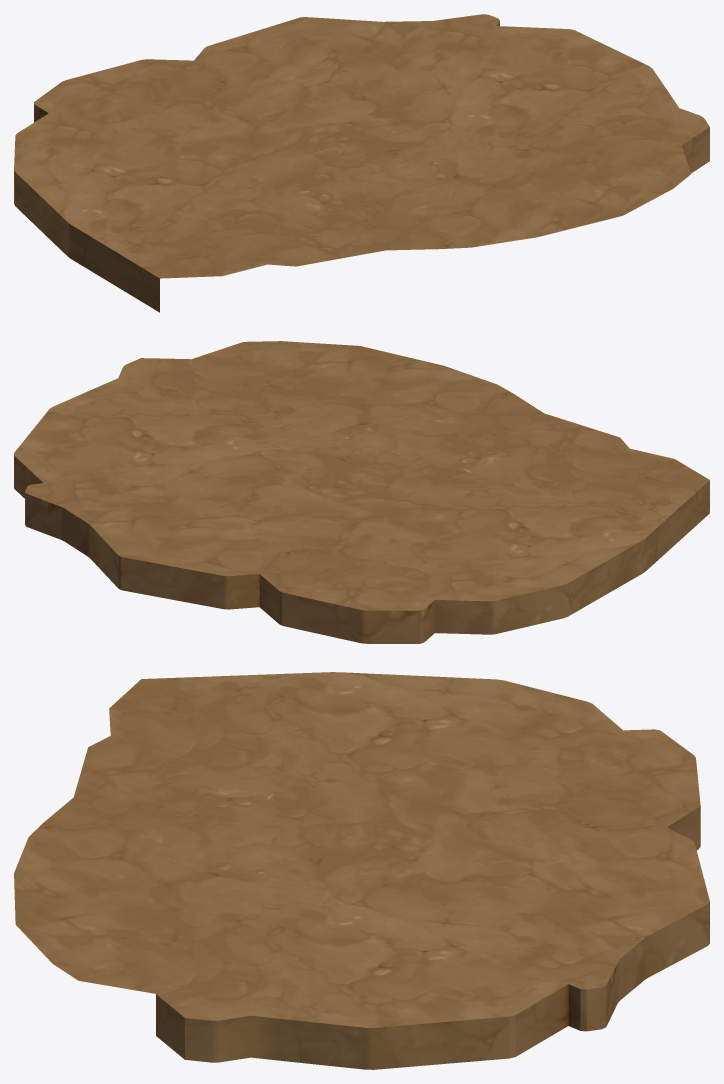
Rendered from Laguna2.FBX.
3 renders of one model, top to bottom at view 1: azimuth 30°, elevation 25°; view 2: azimuth 150°, elevation 25°; view 3: azimuth 270°, elevation 25°, orthographic. The views are drawn at different scales.
Visible parts, largest first — view 1: Laguna; view 2: Laguna; view 3: Laguna.
Boxes of the visible parts, box(x1,y1,x2,y2) form: Laguna: box(14, 14, 709, 312); Laguna: box(14, 341, 709, 643); Laguna: box(14, 672, 709, 1069).
Bounding box in the file's own units: 17.54 × 0.9628 × 14.5.
